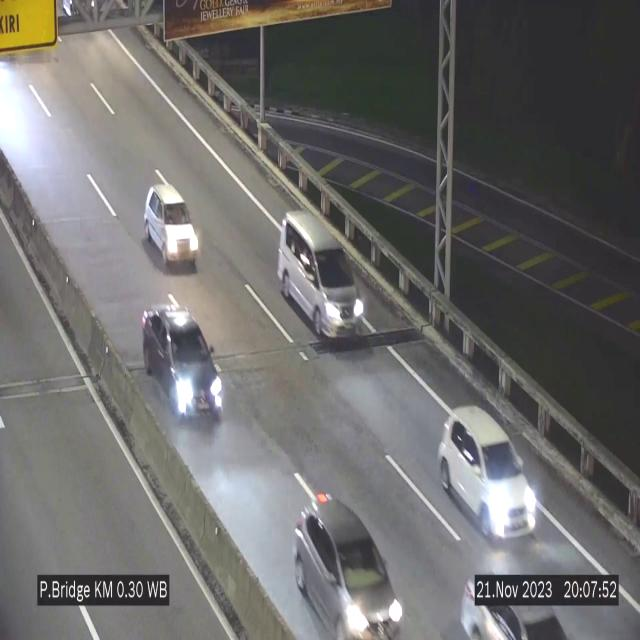Car: (294, 493, 403, 639), (438, 406, 537, 542), (278, 212, 368, 338), (455, 559, 571, 640), (143, 305, 223, 419), (144, 185, 200, 270)
